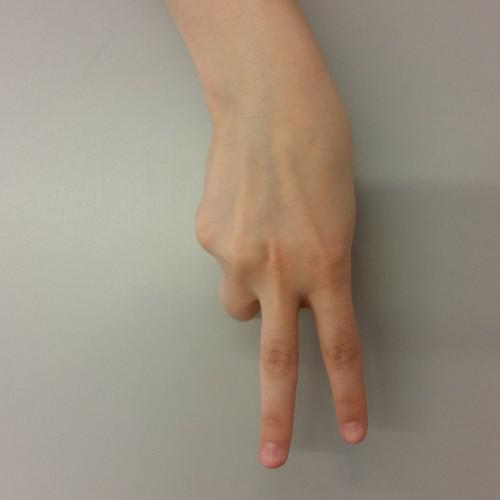scissors: (185, 105, 376, 469)
